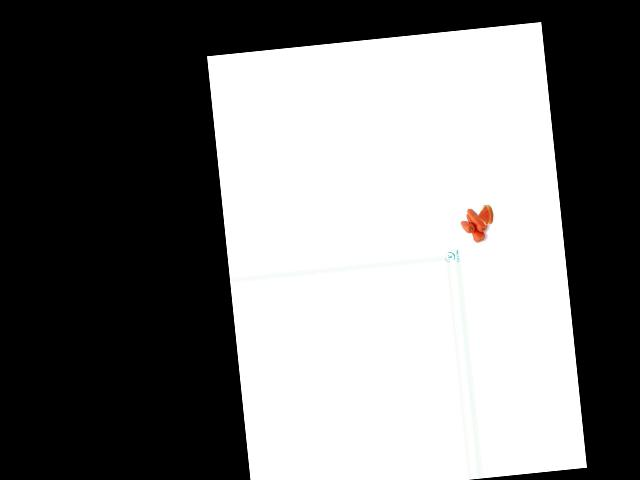carrot: (465, 205, 486, 233)
